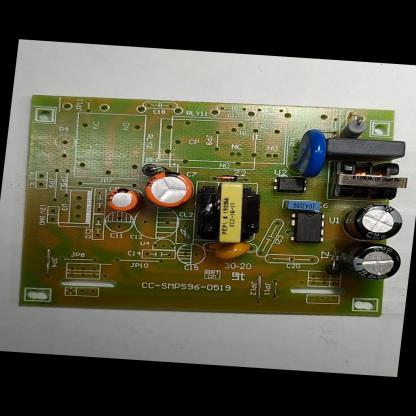Cap1: (144, 169, 195, 208)
Cap2: (104, 186, 141, 214)
Cap3: (342, 202, 406, 244)
Cap4: (339, 241, 404, 282)
MOSFET: (286, 210, 328, 245)
Mov: (286, 127, 330, 178)
Resistor: (337, 116, 367, 140)
Transformer: (194, 180, 265, 246), (331, 157, 411, 201)
